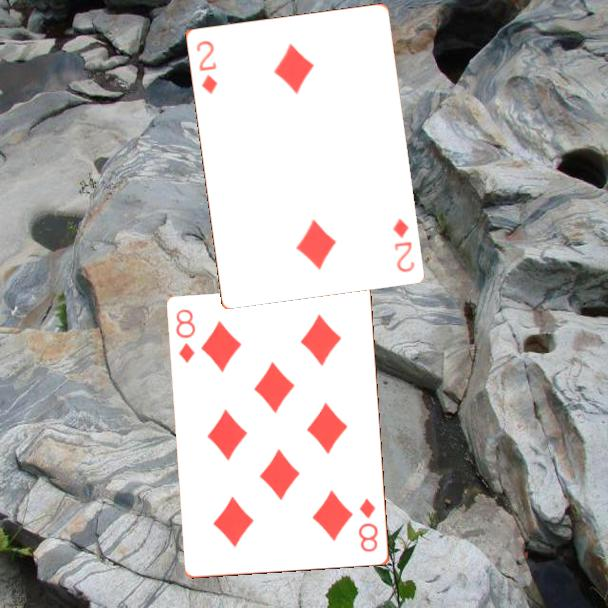d02: (192, 37, 220, 97), (389, 215, 417, 275)
d08: (173, 306, 199, 367), (355, 495, 381, 555)
